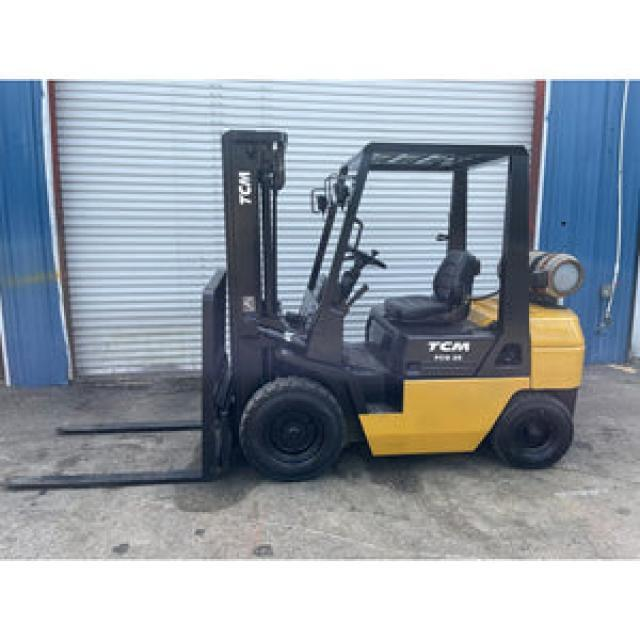forklift: (160, 128, 605, 490)
